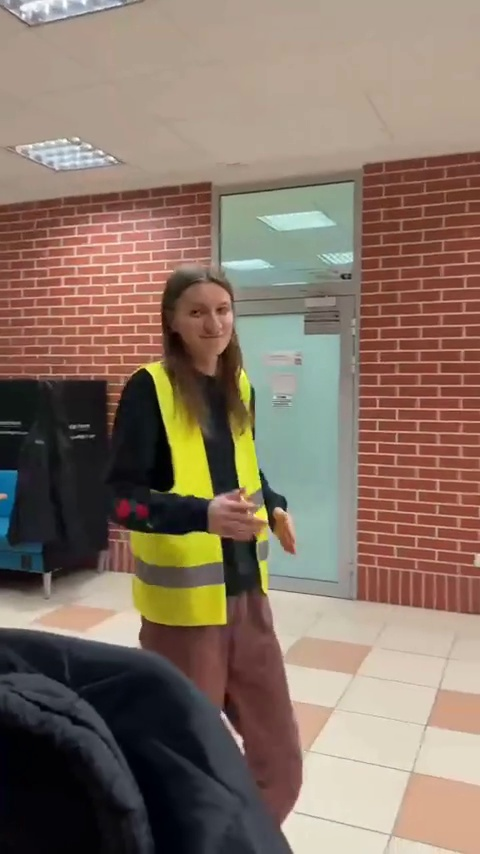vest: (97, 264, 307, 751)
